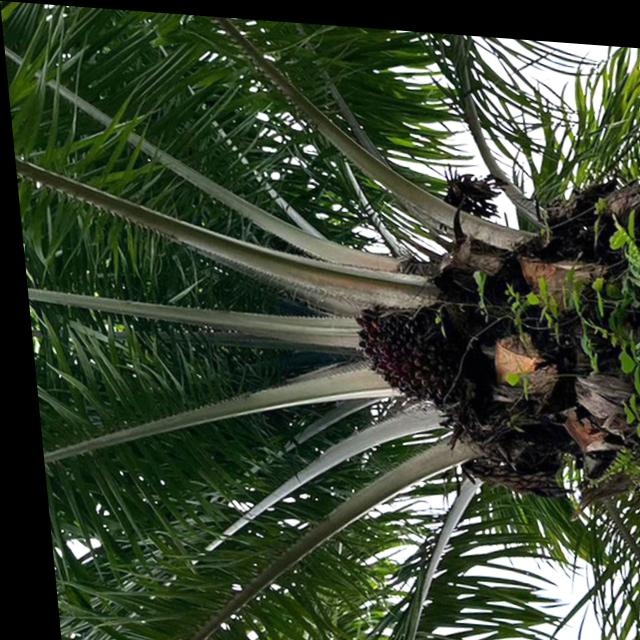ripe: (329, 282, 466, 402)
